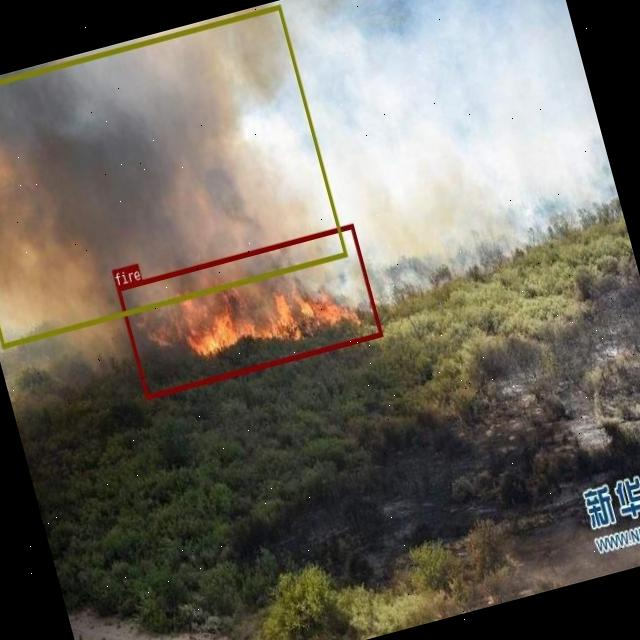fire: (115, 223, 381, 398)
smoke: (0, 4, 347, 348)
